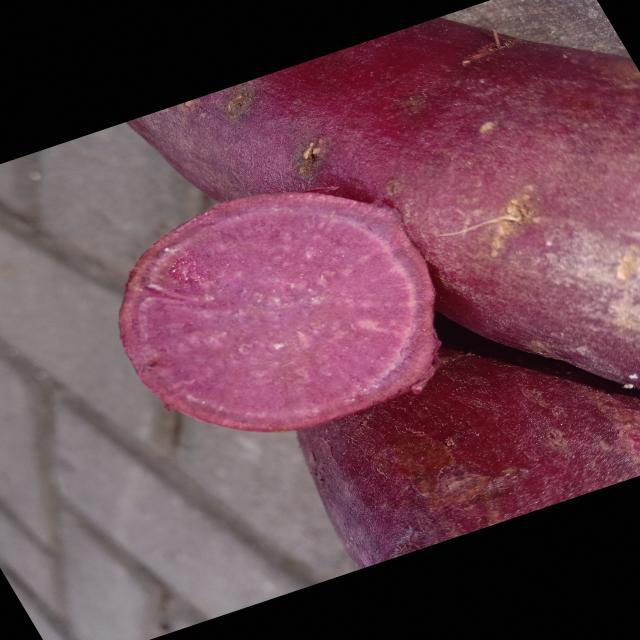Healthy Sweet Potato: (120, 194, 440, 431)
